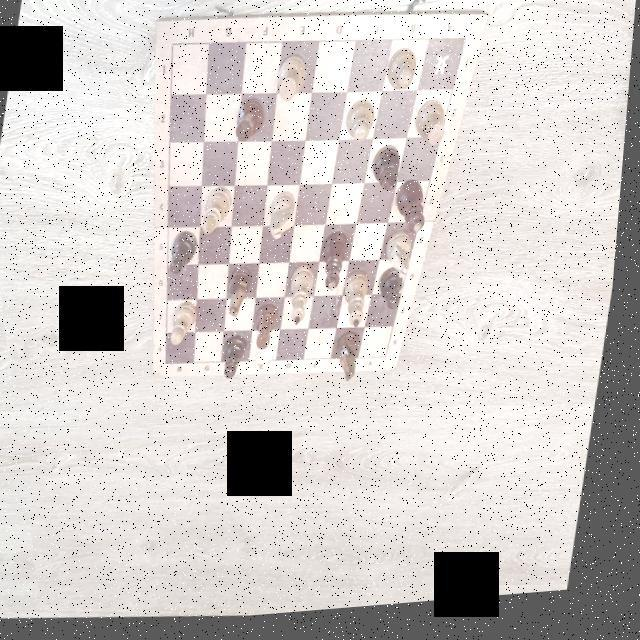chess-table-corners: (461, 38, 472, 56), (385, 356, 397, 372), (168, 39, 180, 55), (168, 361, 176, 372)
